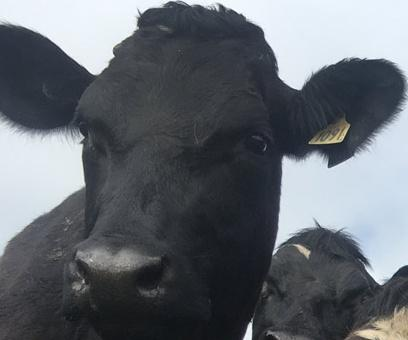muzzles: (65, 243, 177, 318)
